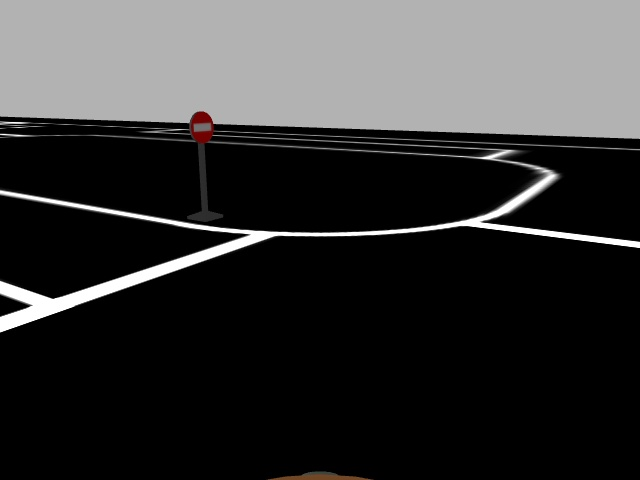prohibited: (189, 109, 214, 147)
